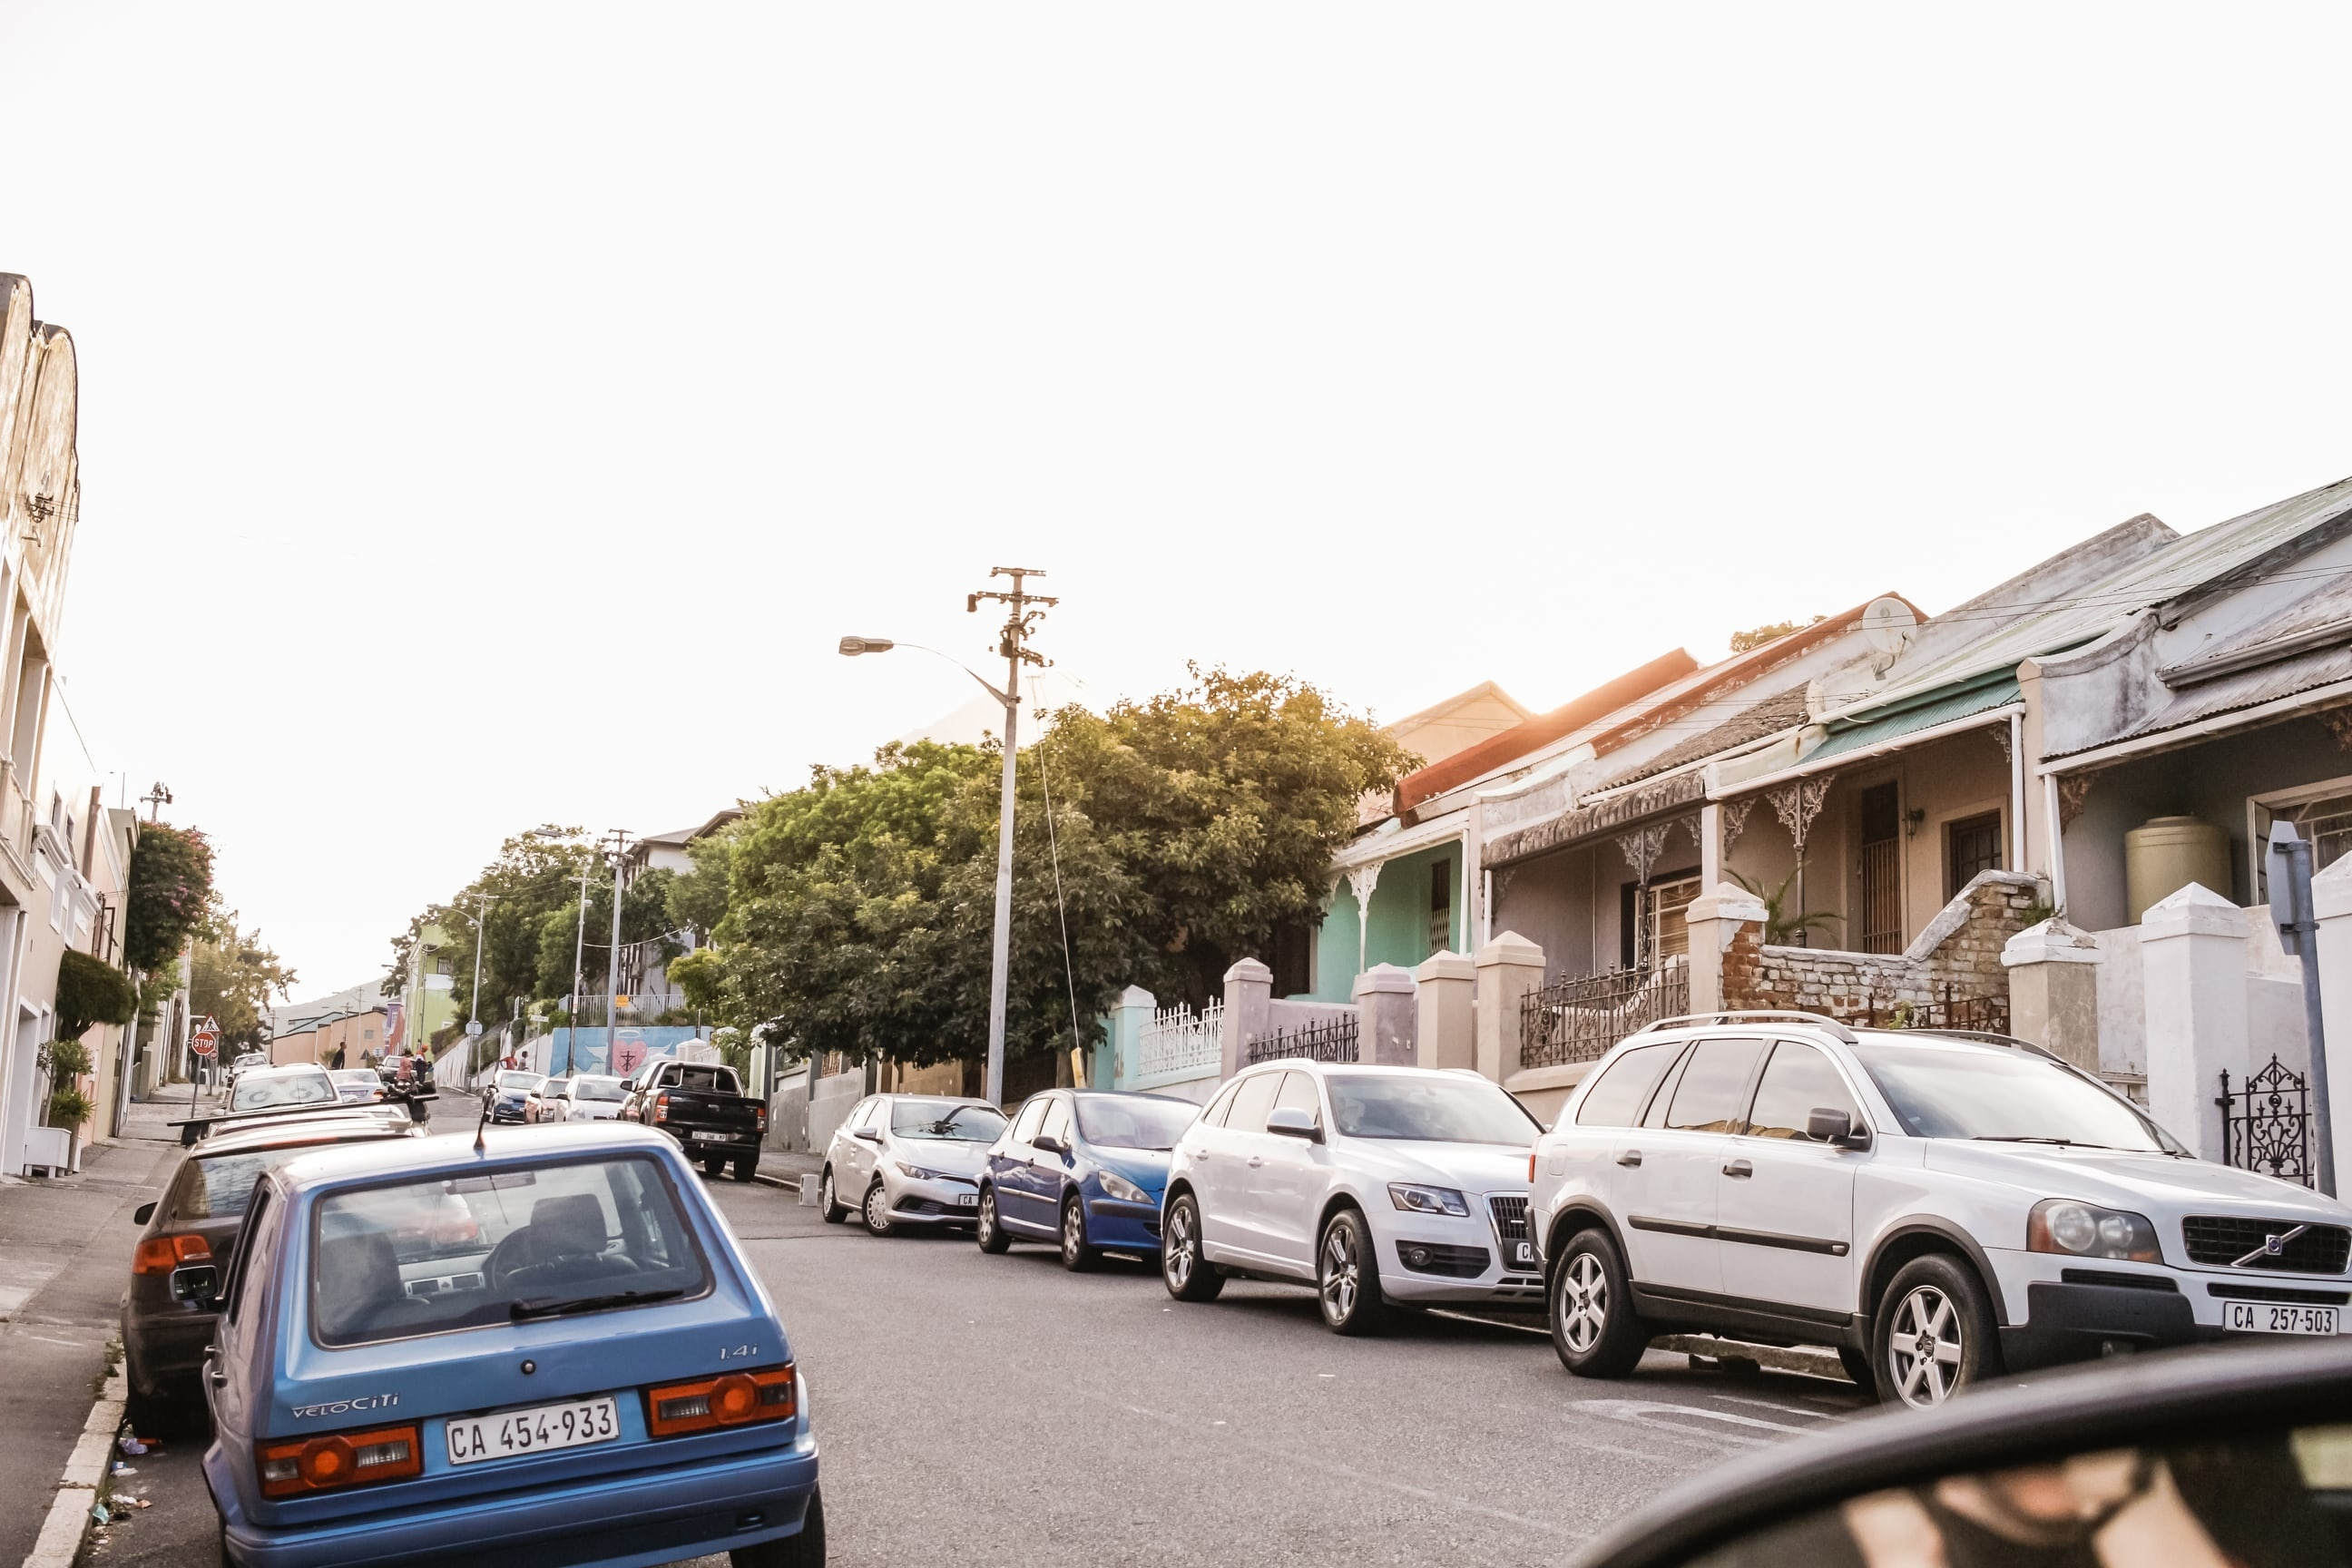plaka: (445, 1396, 621, 1465)
